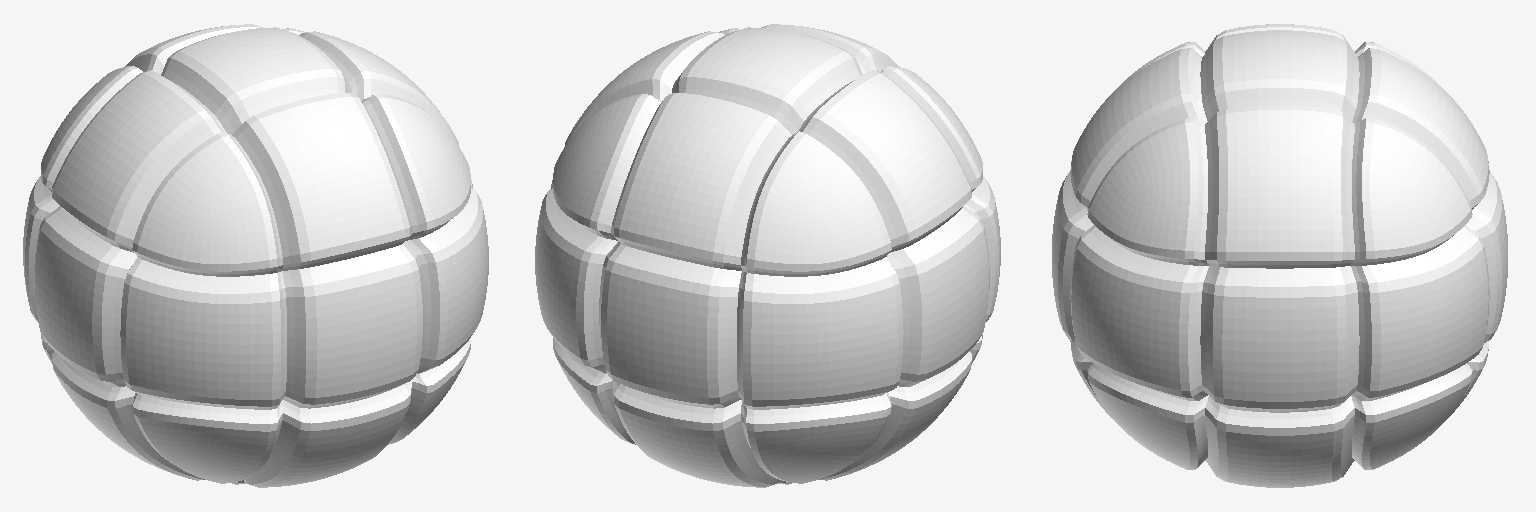
Rendered from shaderball.obj.
3 views of the same model, side by side, from view 1: azimuth 30°, elevation 25°; view 2: azimuth 150°, elevation 25°; view 3: azimuth 270°, elevation 25° (orthographic).
Parts seen in each view (by area): view 1: Shaderball_Cube.001; view 2: Shaderball_Cube.001; view 3: Shaderball_Cube.001.
Boxes of the visible parts, x1,y1,x2,y2 form: Shaderball_Cube.001: [23, 24, 488, 487]; Shaderball_Cube.001: [535, 24, 1000, 487]; Shaderball_Cube.001: [1052, 24, 1507, 487].
Size of the model in its own units: 1.68 by 1.68 by 1.68.